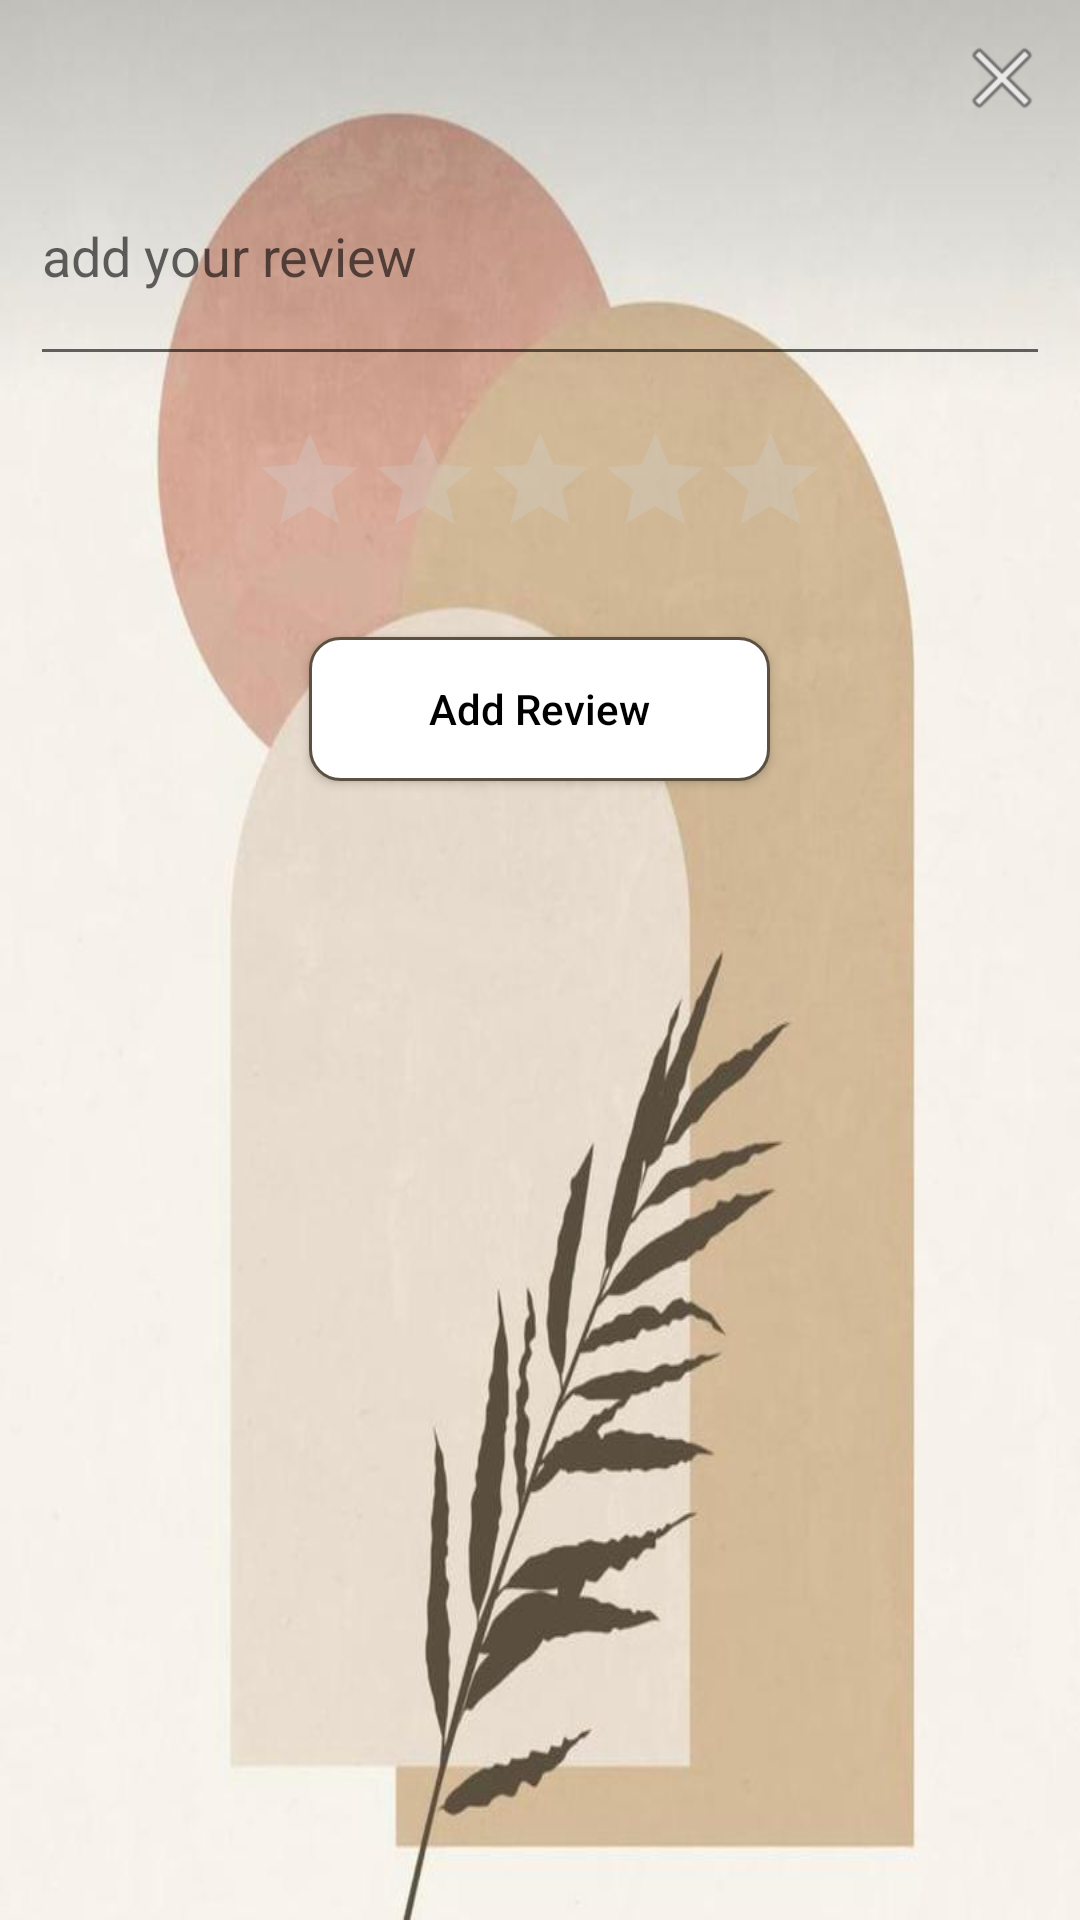

Named icons in this screenshot (1080px×1920px) and their bounding boxes, (x1, y1, x2, y2):
close clear cancel: (972, 48, 1032, 108)
